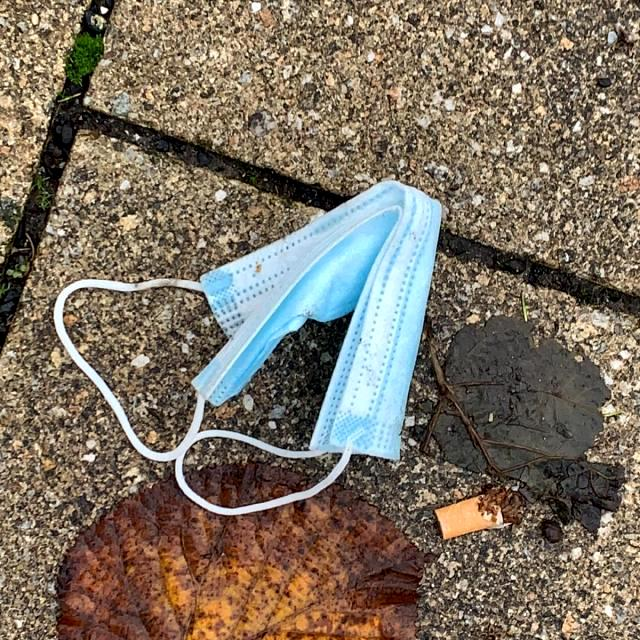Mask: (50, 176, 448, 520)
